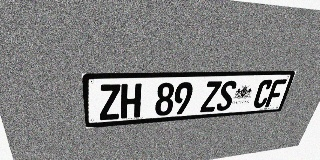8: (154, 82, 176, 116)
9: (172, 82, 194, 115)
C: (252, 79, 274, 108)
F: (265, 79, 287, 107)
H: (121, 83, 142, 119)
S: (215, 81, 238, 111)
Z: (98, 84, 120, 120), (200, 81, 222, 112)
